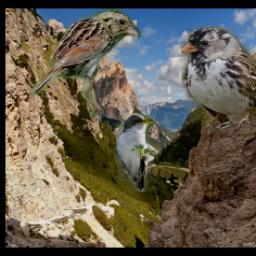Cuckoo: (116, 113, 155, 192)
Sparrow: (30, 8, 141, 118), (181, 27, 256, 135)
